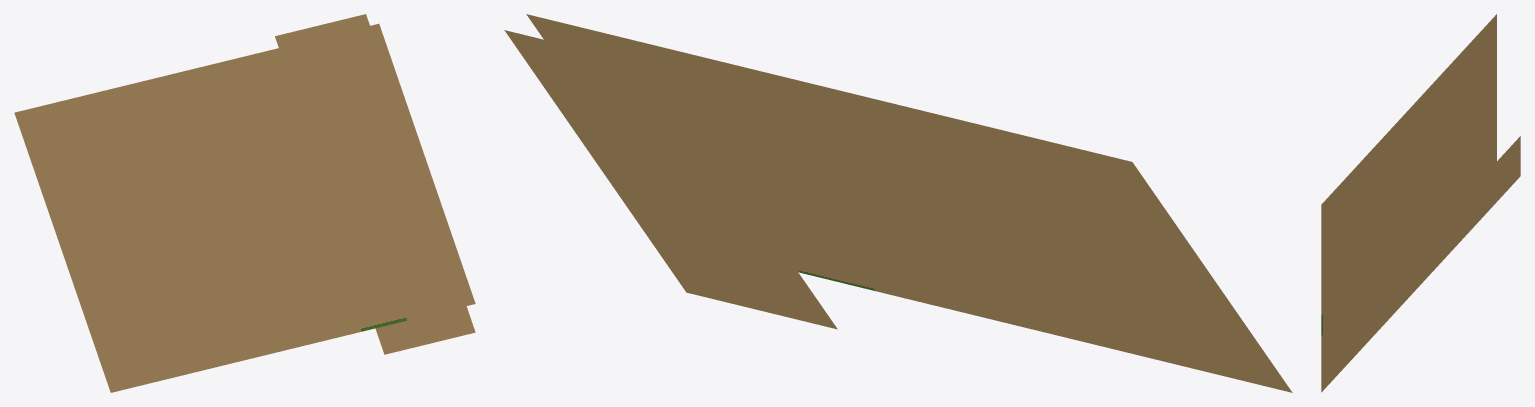
3 views of the same model, side by side, from view 1: azimuth 30°, elevation 25°; view 2: azimuth 150°, elevation 25°; view 3: azimuth 270°, elevation 25° (orthographic). The views are drawn at different scales.
Size of the model in its own units: 1 by 0.624 by 0.5205.
Materials: 1 (1 with a texture image).
